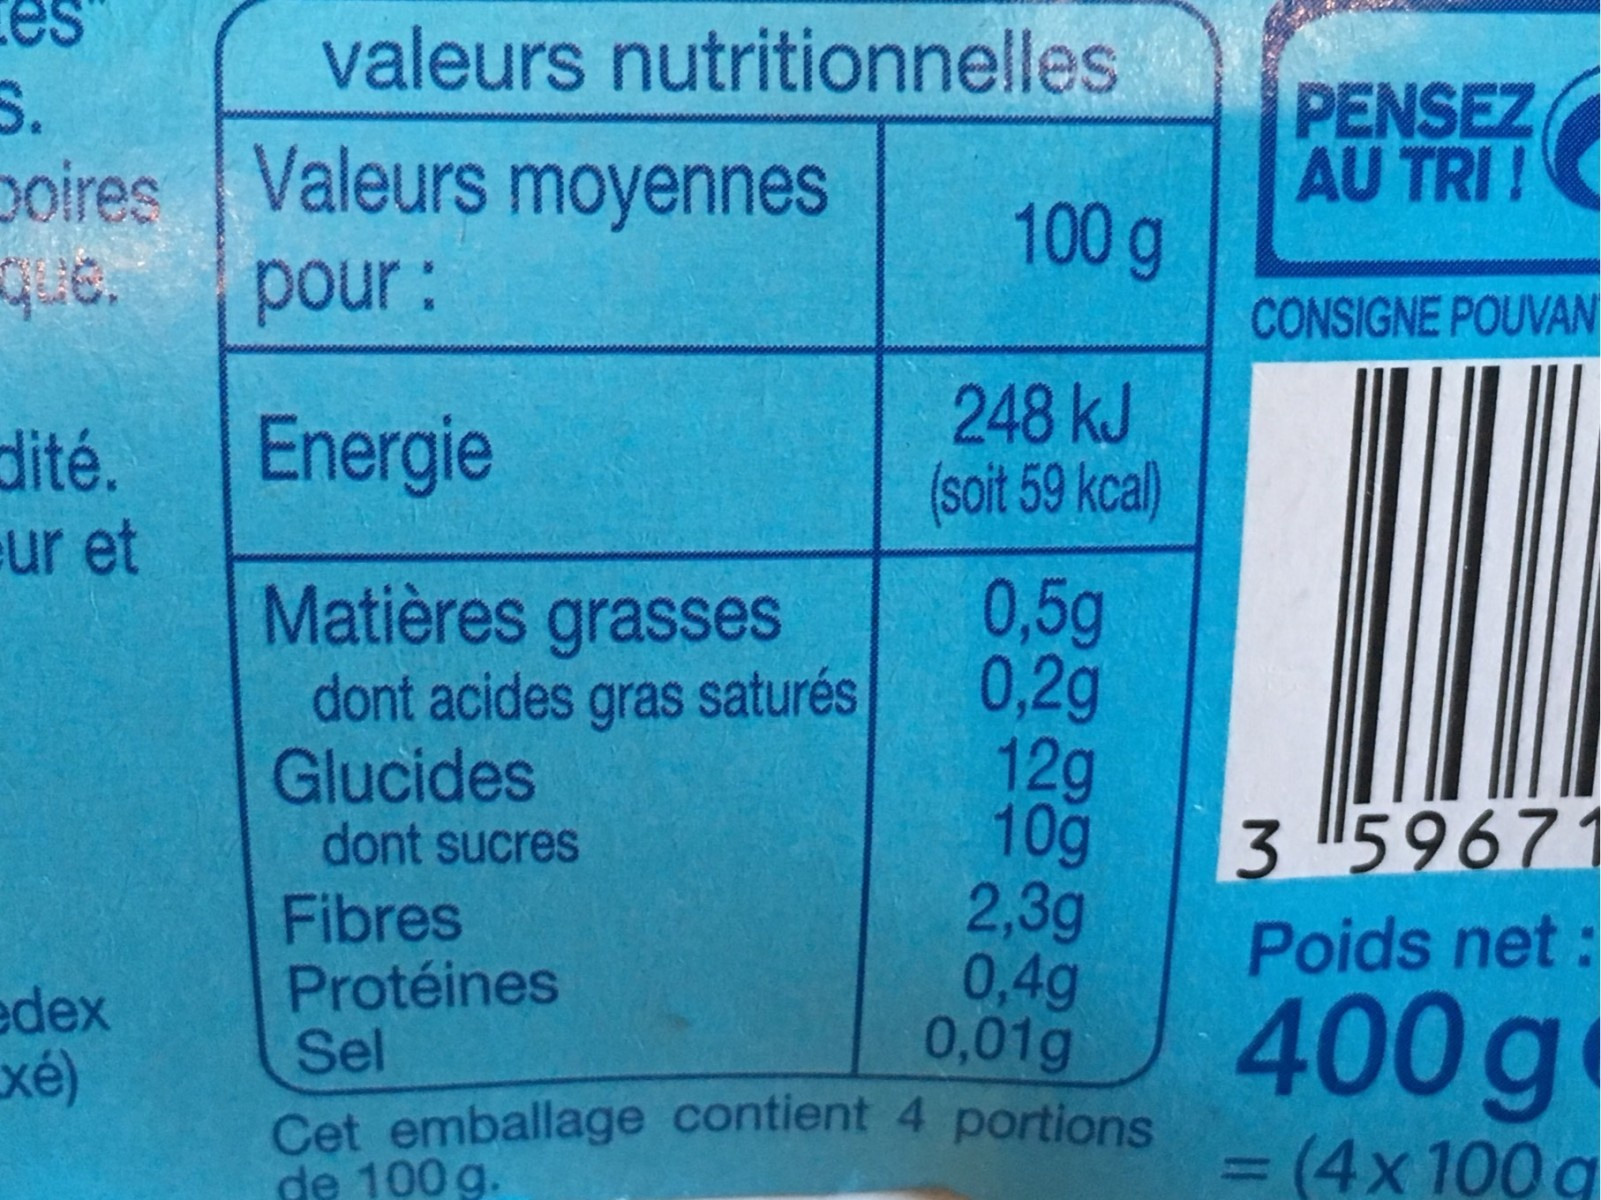column: (253, 141, 855, 1076), (927, 197, 1166, 1079)
table: (211, 1, 1222, 1092)
